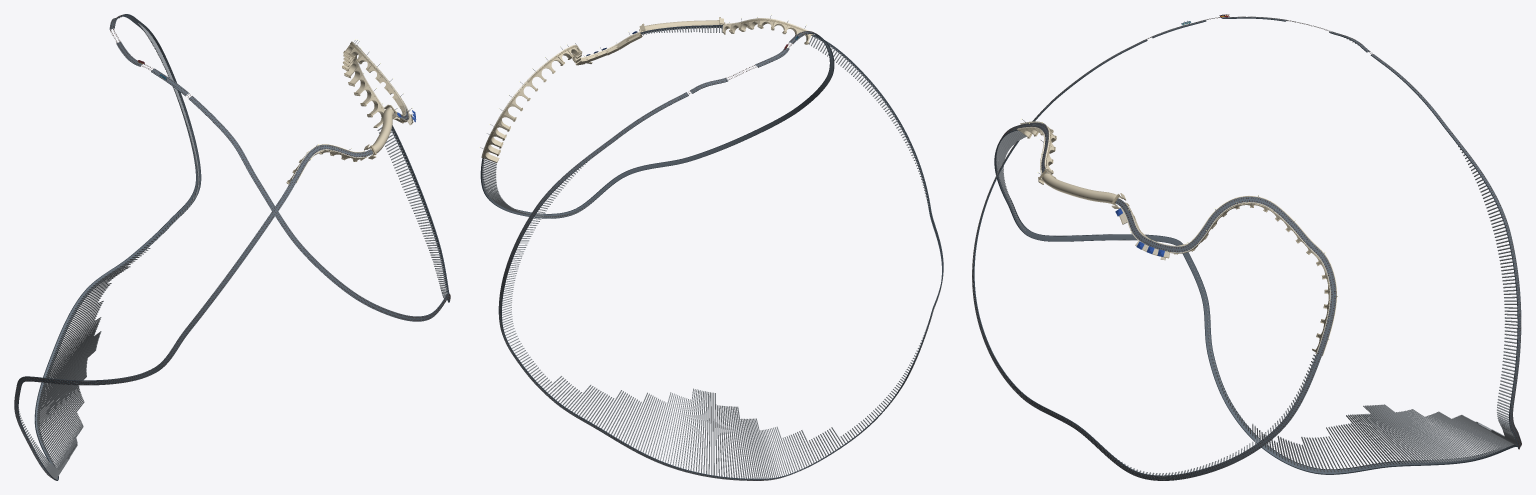
File: tram-system-coastal-v1.glb
3 renders of one model, left to right at view 1: azimuth 30°, elevation 25°; view 2: azimuth 150°, elevation 25°; view 3: azimuth 270°, elevation 25°, orthographic. The views are drawn at different scales.
Visible parts, largest first — view 1: christchurch-tram-system-coastal, moebius-city-viaduct, citadel-coastal-tram-structures; view 2: christchurch-tram-system-coastal, moebius-city-viaduct, citadel-coastal-tram-structures; view 3: christchurch-tram-system-coastal, moebius-city-viaduct, citadel-coastal-tram-structures, tram-culvert-0.
Boxes of the visible parts, x1,y1,x2,y2 form: christchurch-tram-system-coastal: (14, 14, 450, 479); moebius-city-viaduct: (14, 14, 450, 480); citadel-coastal-tram-structures: (286, 39, 416, 184); christchurch-tram-system-coastal: (482, 26, 943, 480); moebius-city-viaduct: (480, 24, 943, 480); citadel-coastal-tram-structures: (479, 14, 812, 162); christchurch-tram-system-coastal: (972, 16, 1521, 480); moebius-city-viaduct: (972, 17, 1521, 480); citadel-coastal-tram-structures: (1017, 118, 1338, 356); tram-culvert-0: (1042, 173, 1119, 203).
Bounding box in the file's own units: 323 × 298 × 306.
